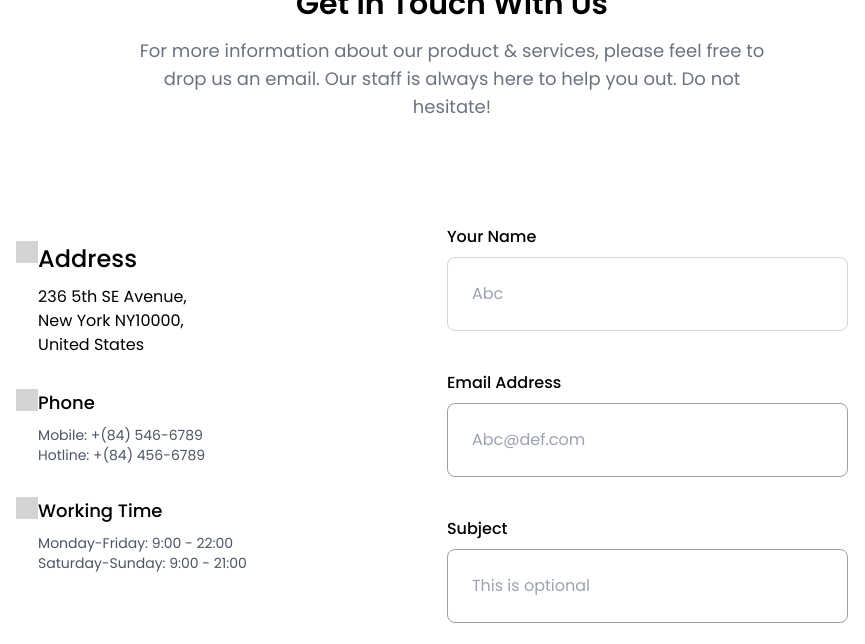
Test case: ContactSection Component › should show error messages for invalid form input
Type "A" into the field labelled "Your Name". click: (647, 294)
box: [447, 257, 848, 331]
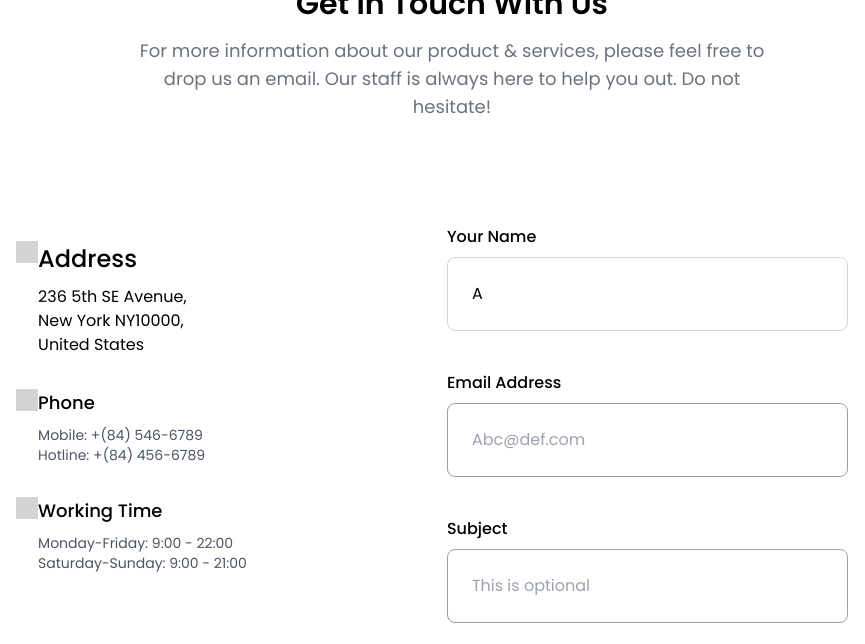
Type "invalidemail" into the field labelled "Email Address". click: (647, 440)
box: [447, 403, 848, 477]
(page scrolled)
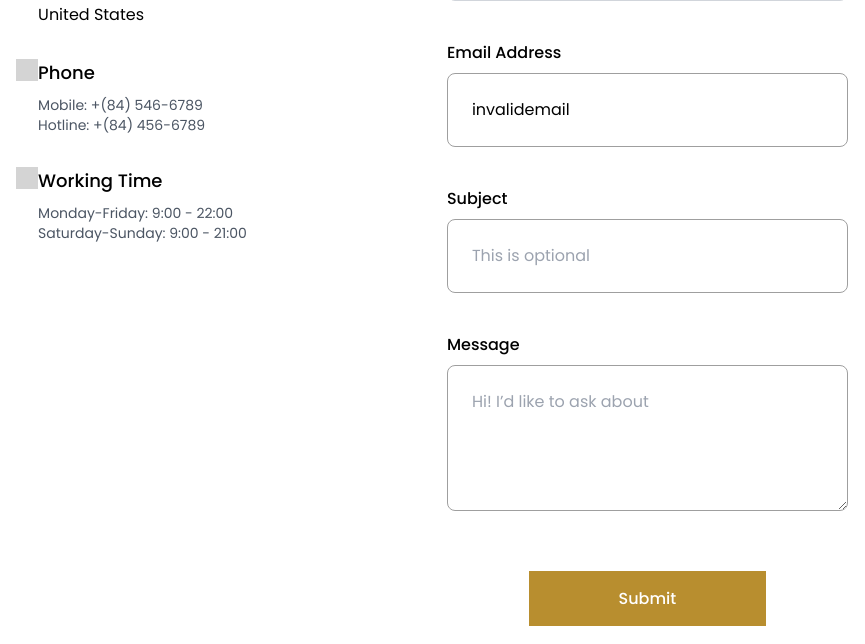
Type "short" into the text box labelled "Message". click: (647, 438)
box: [447, 365, 848, 511]
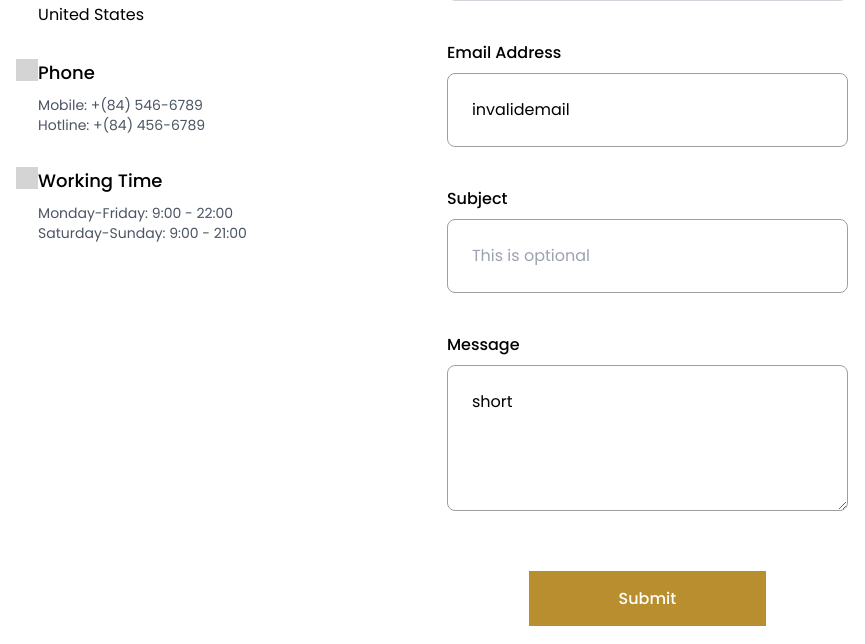
Click the button "Submit". click: (647, 598)
box: [529, 571, 766, 626]
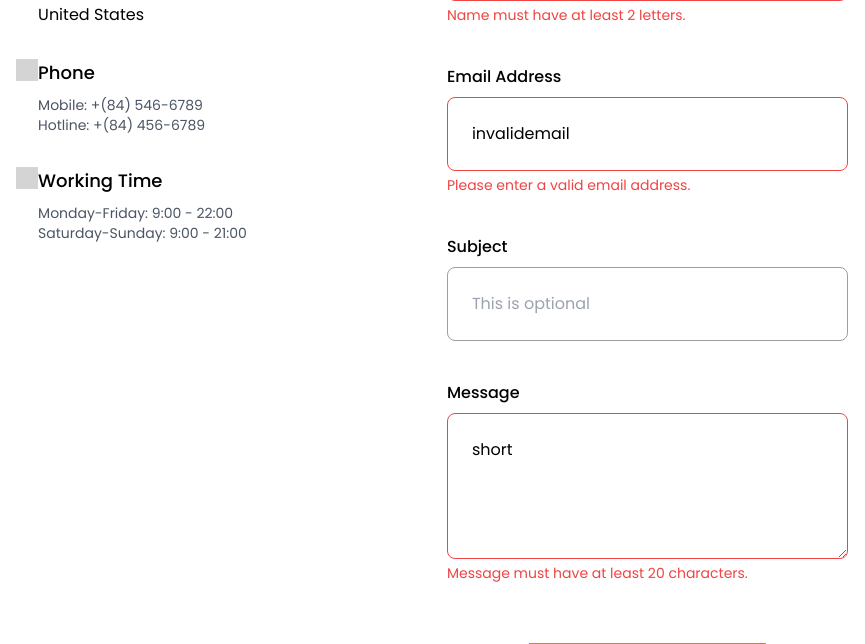
Check: the text "Name must have at least 2 letters." is shown, box [447, 5, 686, 25]
Check: the text "Please enter a valid email address." is shown, box [447, 175, 690, 195]
Check: the text "Message must have at least 20 characters." is shown, box [447, 563, 748, 583]
